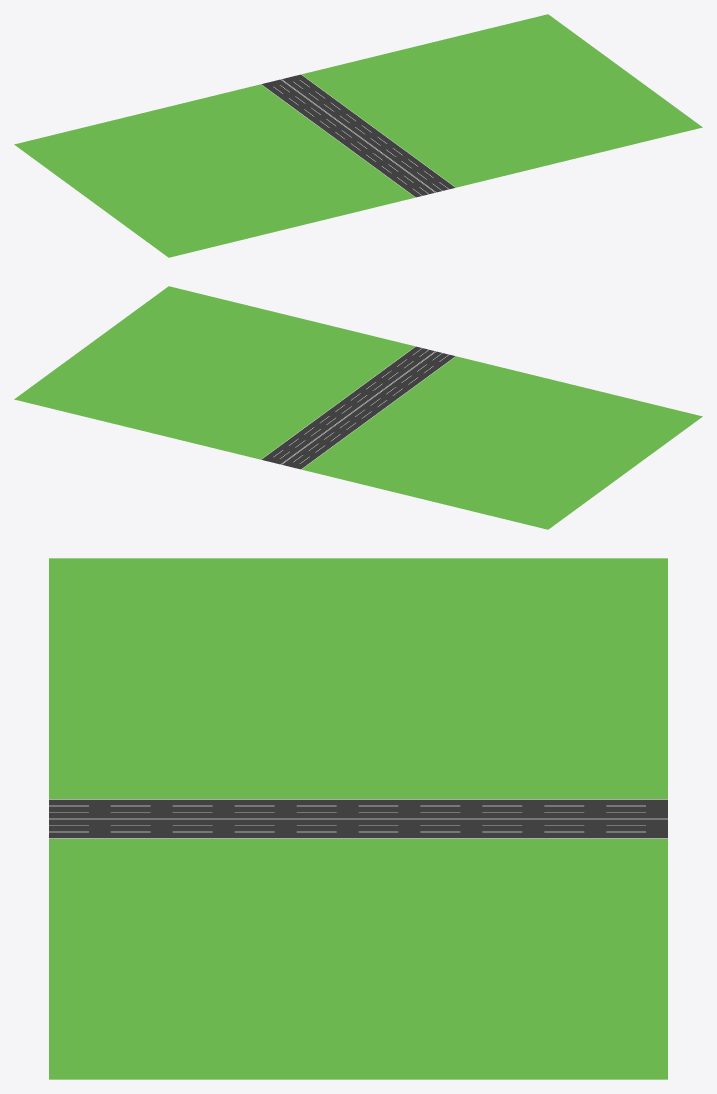
The model's file is road.fbx.
The picture shows the model from 3 angles, top to bottom: view 1: azimuth 30°, elevation 25°; view 2: azimuth 150°, elevation 25°; view 3: azimuth 270°, elevation 25°; orthographic projection. The views are drawn at different scales.
Parts seen in each view (by area): view 1: Road; view 2: Road; view 3: Road.
Part boxes in pixels (box(x1,y1,x2,y2)): Road: box(14, 14, 702, 257); Road: box(14, 286, 702, 529); Road: box(49, 558, 667, 1079).
Bounding box in the file's own units: 7970 × 0 × 4000.
